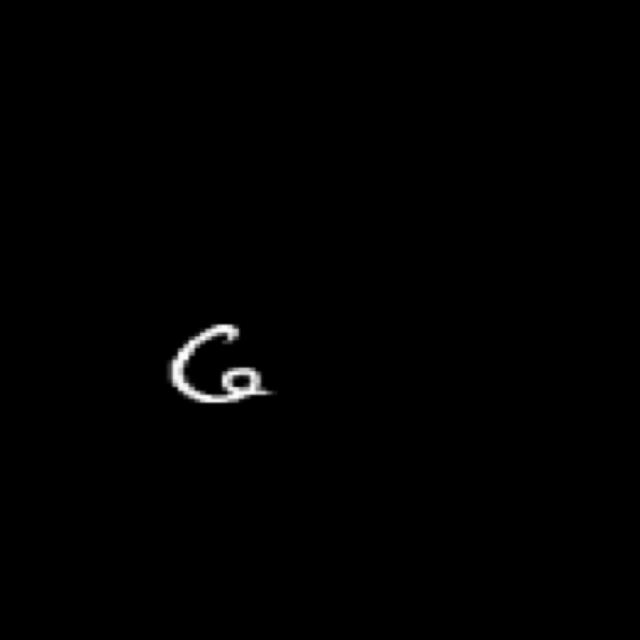six -6-: (161, 318, 278, 412)
